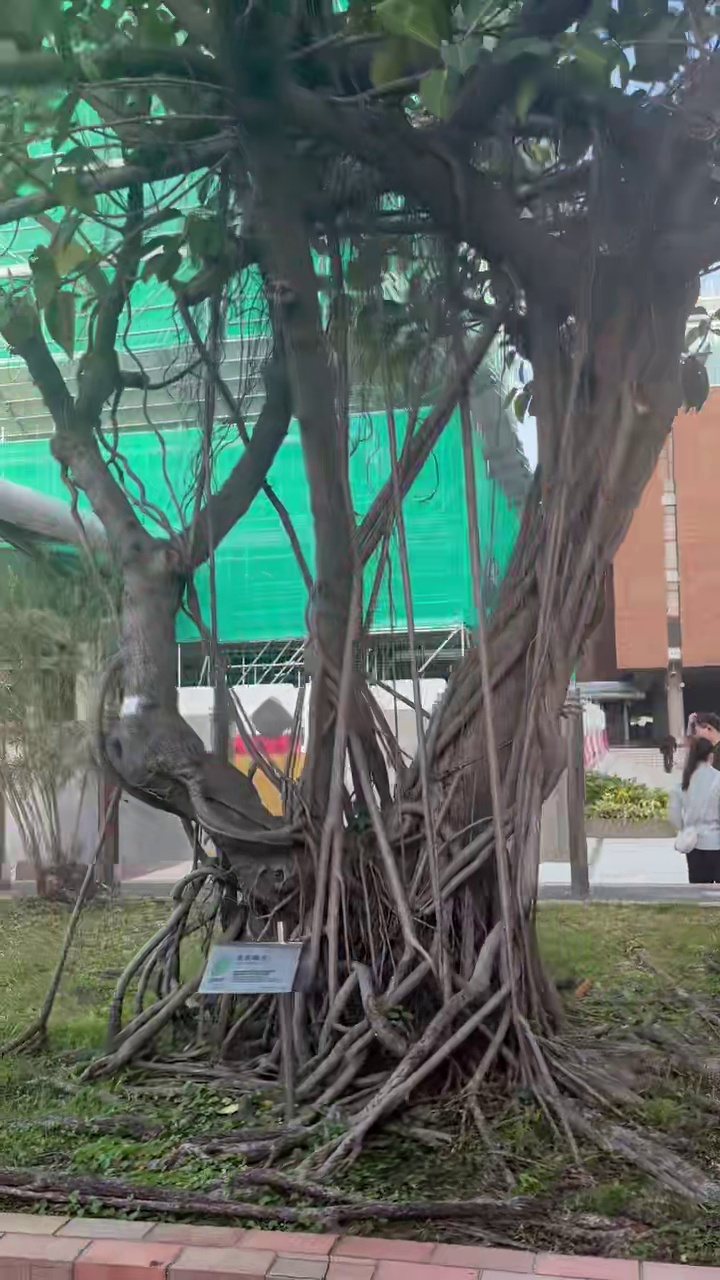Ficus elastica: (0, 0, 719, 1176)
